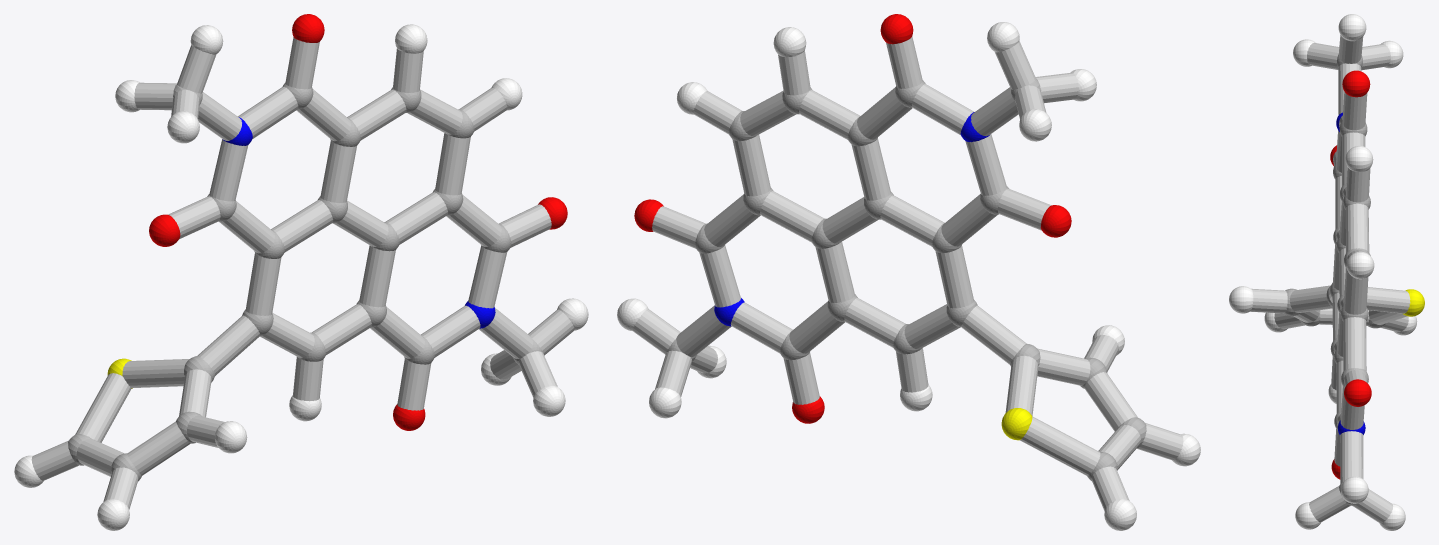
File: Dimethyl_Naphthalene_Dicarboximide_Phi_5_Theta_270_Thiophene.glb
3 views of the same model, side by side, from view 1: azimuth 30°, elevation 25°; view 2: azimuth 150°, elevation 25°; view 3: azimuth 270°, elevation 25° (orthographic). The views are drawn at different scales.
Parts seen in each view (by area): view 1: grp14119, grp7241, grp1, grp12309, grp11585; view 2: grp14119, grp7241, grp1, grp12309, grp13757, grp11585; view 3: grp14119, grp7241, grp1, grp12309, grp13757.
Part boxes in pixels (x1,y1,x2,y2): grp14119: (31, 37, 574, 509); grp7241: (14, 24, 588, 530); grp1: (68, 82, 542, 481); grp12309: (149, 14, 567, 430); grp11585: (222, 117, 495, 328); grp14119: (632, 36, 1183, 510); grp7241: (617, 22, 1200, 530); grp1: (667, 78, 1146, 480); grp12309: (634, 14, 1071, 423); grp13757: (1001, 408, 1032, 440); grp11585: (714, 112, 989, 326); grp14119: (1250, 35, 1410, 523); grp7241: (1229, 14, 1417, 530); grp1: (1284, 54, 1385, 505); grp12309: (1330, 70, 1371, 479); grp13757: (1403, 289, 1424, 316).
Bounding box in the file's own units: 11.51 × 9.16 × 4.23.
